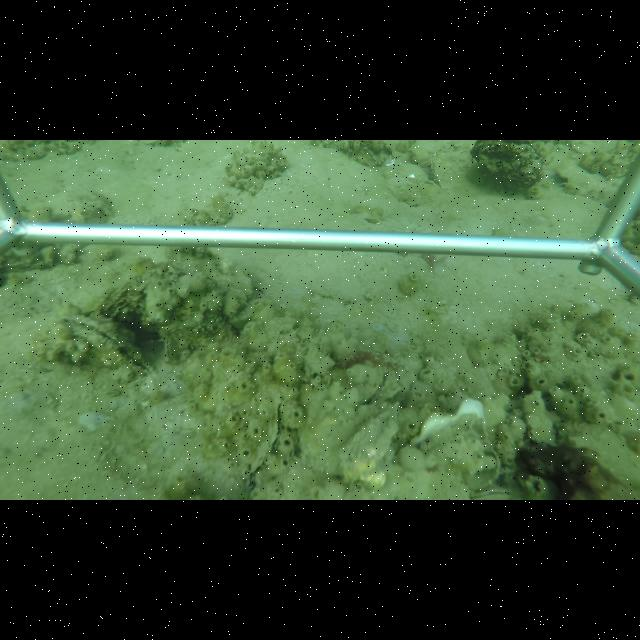Oyster-Closed: (39, 314, 156, 377), (236, 385, 289, 485), (387, 177, 430, 207), (428, 152, 449, 189), (162, 334, 178, 367)
